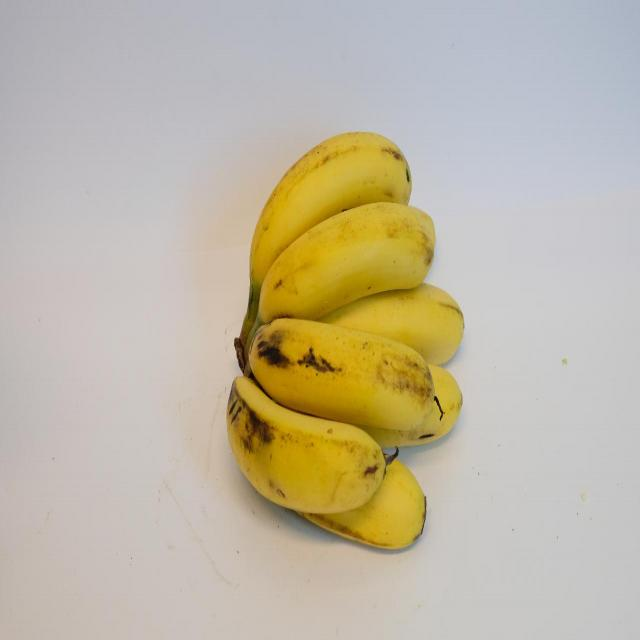banana: (251, 122, 416, 294), (220, 370, 402, 521), (231, 318, 435, 430), (254, 202, 441, 321), (276, 438, 431, 563), (273, 277, 469, 367)
